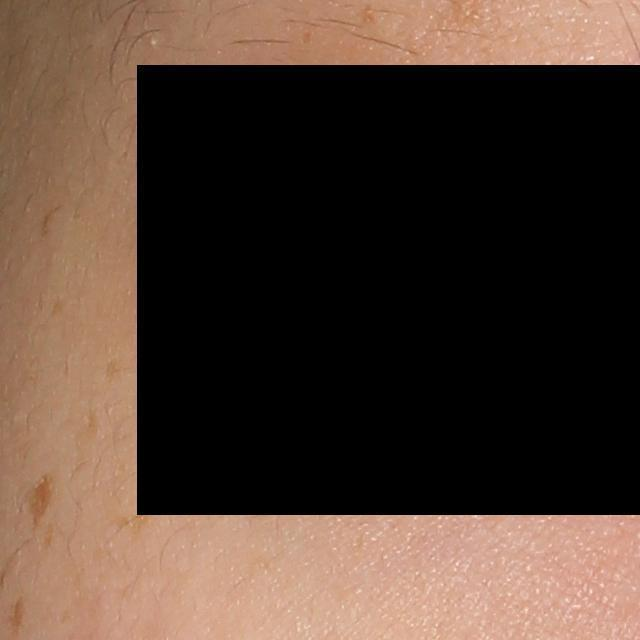melasma: (107, 500, 168, 542), (17, 473, 56, 526), (4, 593, 30, 639), (101, 354, 123, 383)
